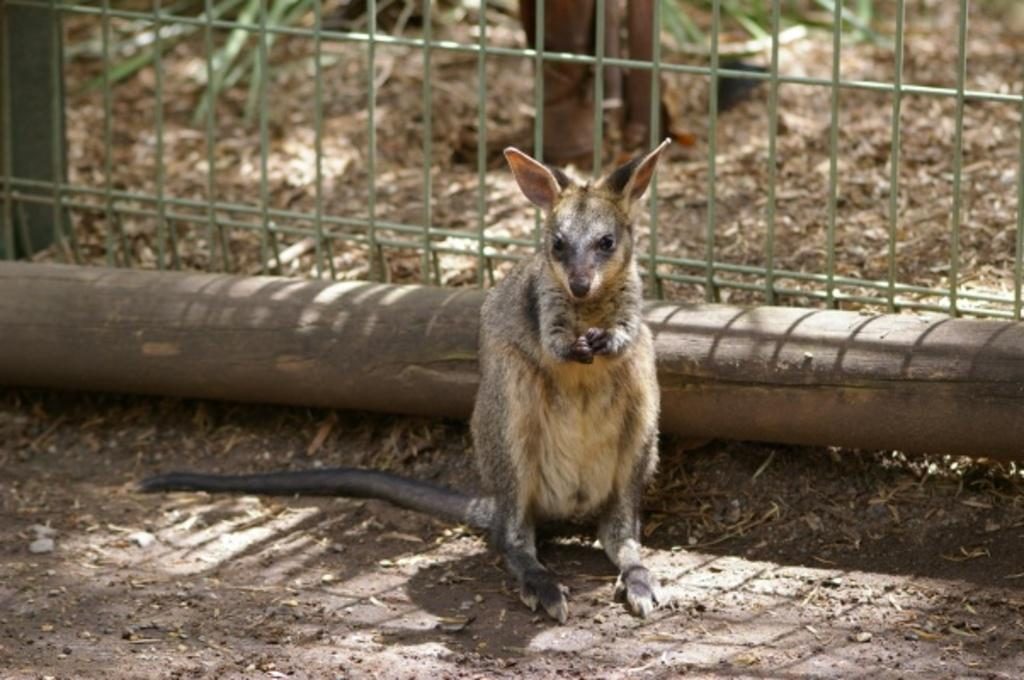kangaroo: (140, 136, 674, 627)
